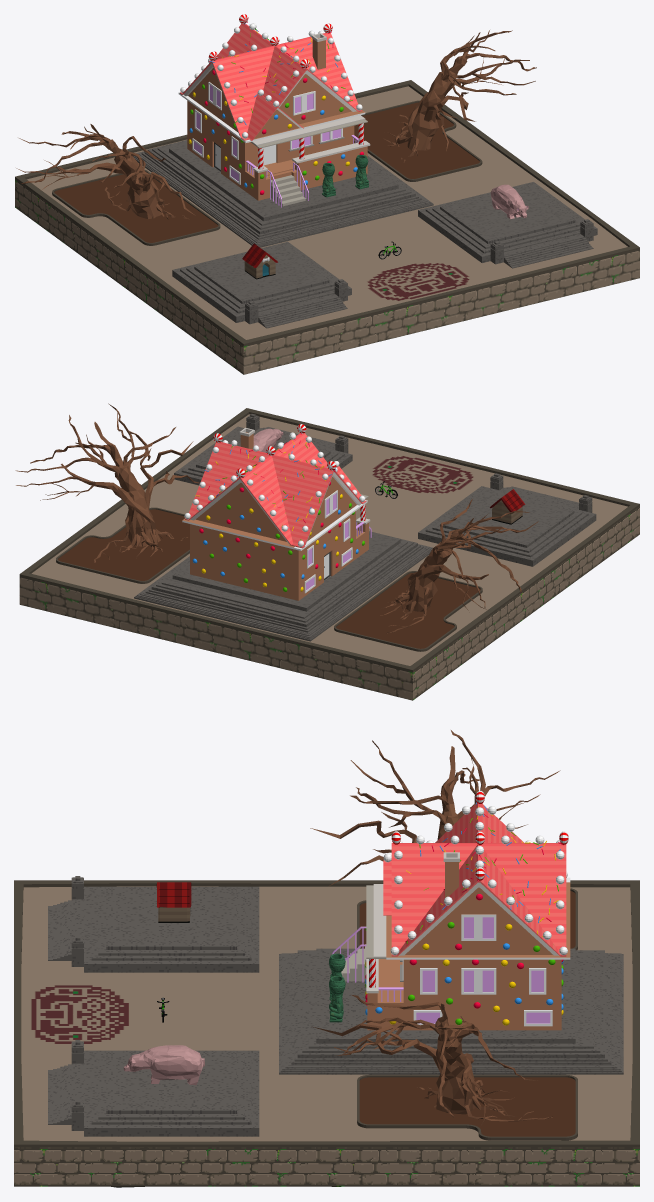
3 renders of one model, top to bottom at view 1: azimuth 30°, elevation 25°; view 2: azimuth 150°, elevation 25°; view 3: azimuth 270°, elevation 25°, orthographic. The views are drawn at different scales.
Parts seen in each view (by area): view 1: Cube.011, Cube.1203, ANIMAL_HIPOPOTAMO, OBJRANDOM_DOGHOUSE; view 2: Cube.011, Cube.1203, OBJRANDOM_DOGHOUSE, ANIMAL_HIPOPOTAMO; view 3: Cube.011, Cube.1203, ANIMAL_HIPOPOTAMO, OBJRANDOM_DOGHOUSE.
Part boxes in pixels (x1,y1,x2,y2): Cube.011: (15,30,639,374); Cube.1203: (178,14,370,207); ANIMAL_HIPOPOTAMO: (490,184,528,219); OBJRANDOM_DOGHOUSE: (242,243,277,279); Cube.011: (15,403,639,700); Cube.1203: (182,424,371,600); OBJRANDOM_DOGHOUSE: (490,489,525,524); ANIMAL_HIPOPOTAMO: (253,428,283,452); Cube.011: (14,730,639,1186); Cube.1203: (332,790,570,1030); ANIMAL_HIPOPOTAMO: (123,1045,204,1085); OBJRANDOM_DOGHOUSE: (156,882,191,922).
Size of the model in its own units: 5099 by 1635 by 4000.
Materials: 42 (6 with a texture image).
